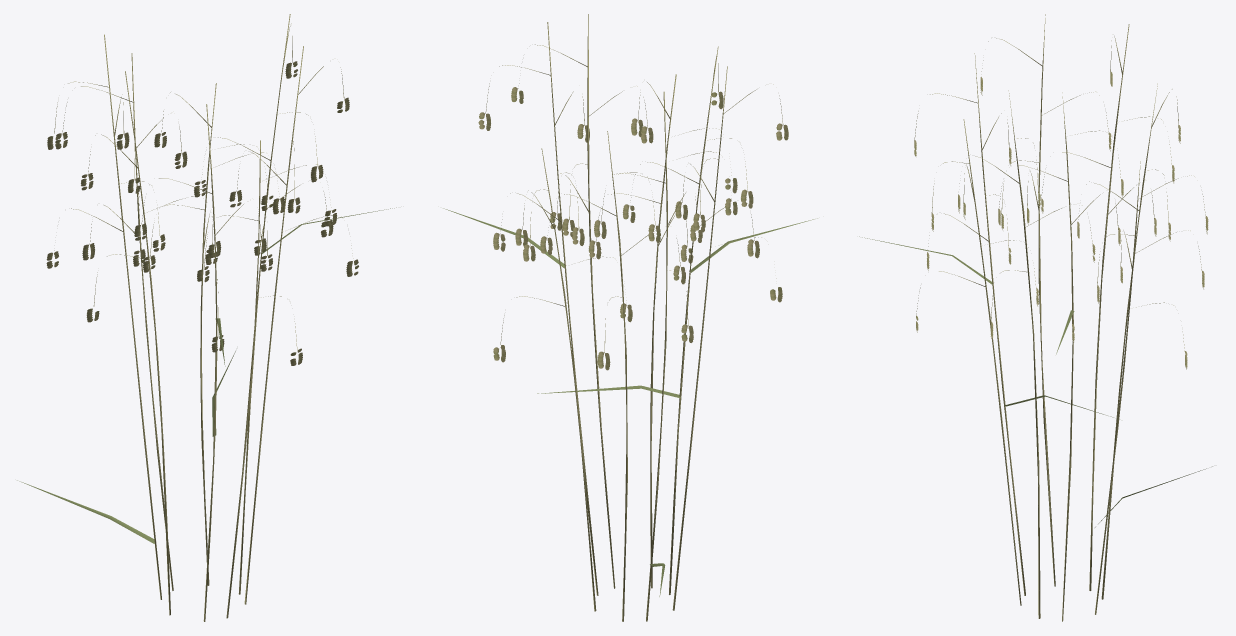
File: Brize_1_Niveau1.fbx
3 views of the same model, side by side, from view 1: azimuth 30°, elevation 25°; view 2: azimuth 150°, elevation 25°; view 3: azimuth 270°, elevation 25° (orthographic).
Visible parts, largest first — view 1: Brize_1_Niveau1; view 2: Brize_1_Niveau1; view 3: Brize_1_Niveau1.
Boxes of the visible parts, x1,y1,x2,y2 form: Brize_1_Niveau1: (17, 14, 396, 621); Brize_1_Niveau1: (443, 14, 817, 621); Brize_1_Niveau1: (859, 14, 1212, 621).
Bounding box in the file's own units: 34.6 × 55.96 × 33.66.
